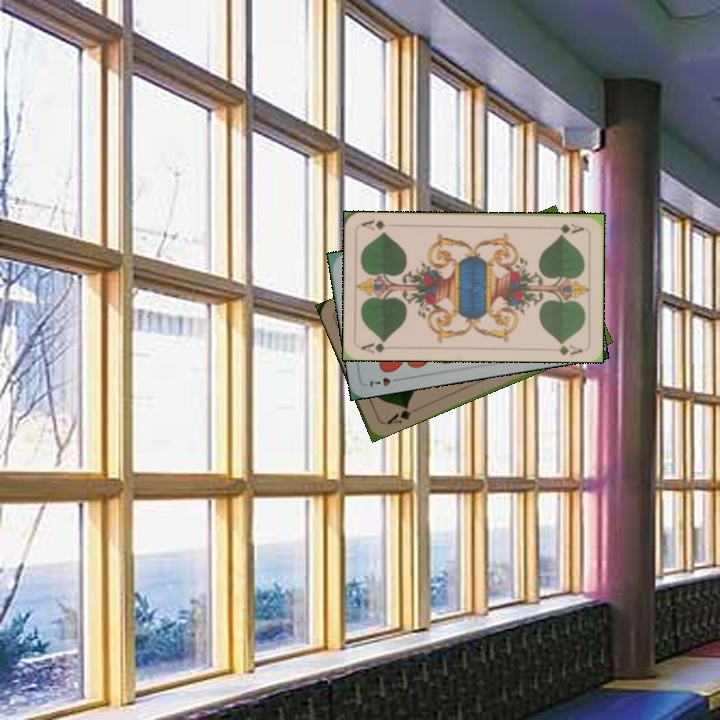GA: (380, 401, 419, 427), (547, 219, 586, 236), (358, 336, 388, 356)
H7: (366, 373, 404, 390)
